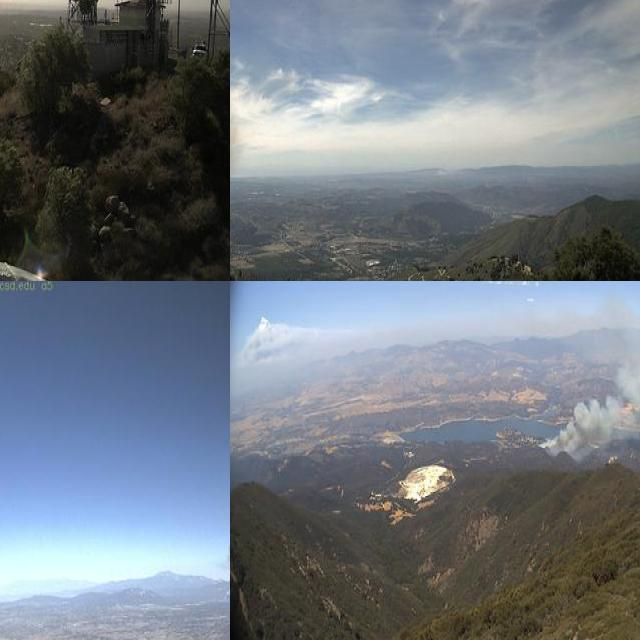smoke: (537, 310, 640, 469), (214, 539, 230, 605)
